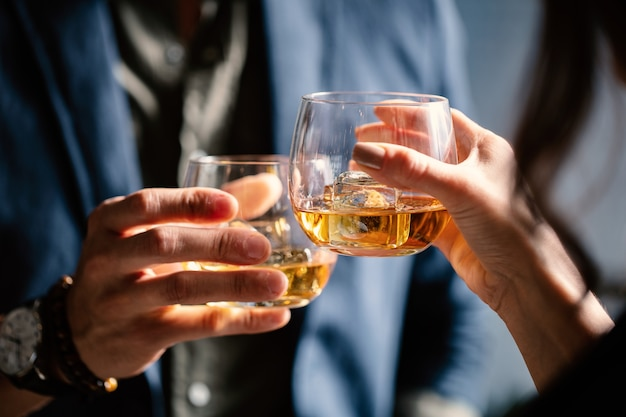alcohol: (287, 88, 460, 257), (178, 151, 341, 310)
